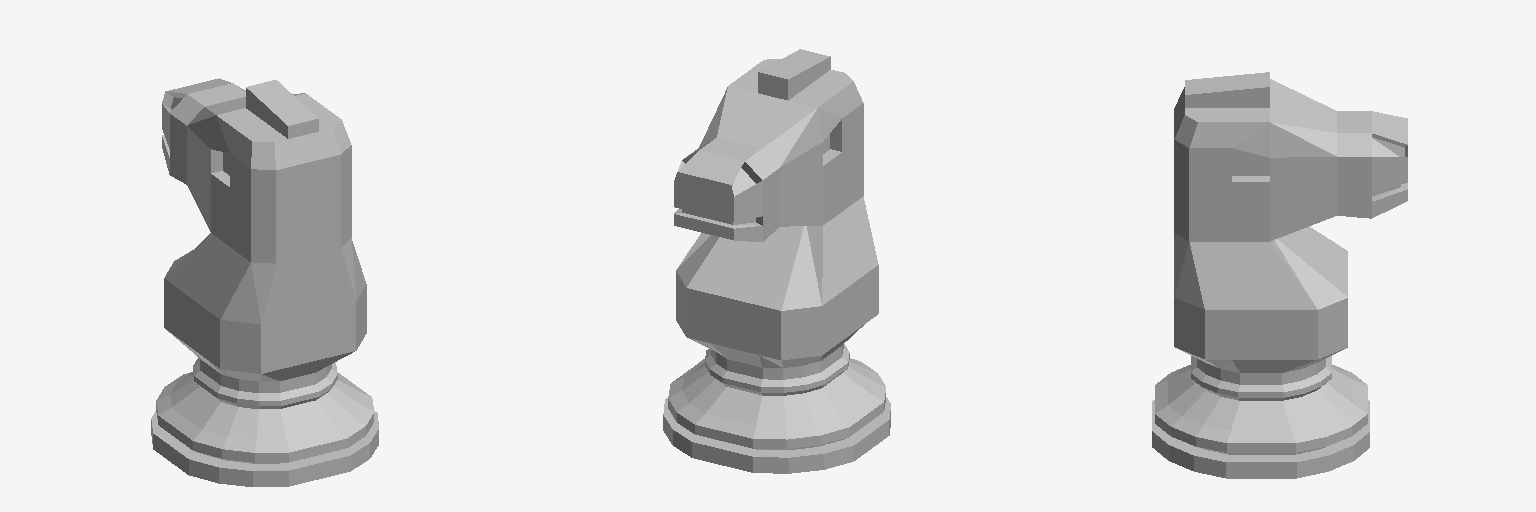
Rendered from TestKnight.obj.
3 renders of one model, left to right at view 1: azimuth 30°, elevation 25°; view 2: azimuth 150°, elevation 25°; view 3: azimuth 270°, elevation 25°, orthographic.
Parts seen in each view (by area): view 1: knight; view 2: knight; view 3: knight.
Part boxes in pixels (x1,y1,x2,y2): knight: (151, 78, 378, 486); knight: (663, 49, 890, 473); knight: (1152, 72, 1407, 478).
Bounding box in the file's own units: 2.65 × 4.73 × 3.1.